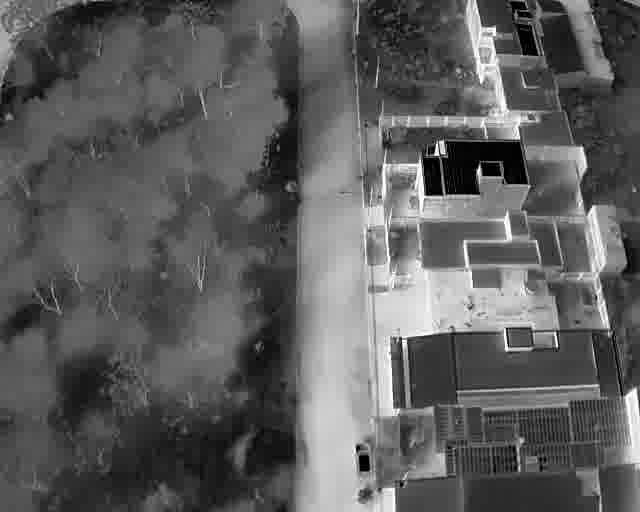car: (353, 442, 372, 480)
